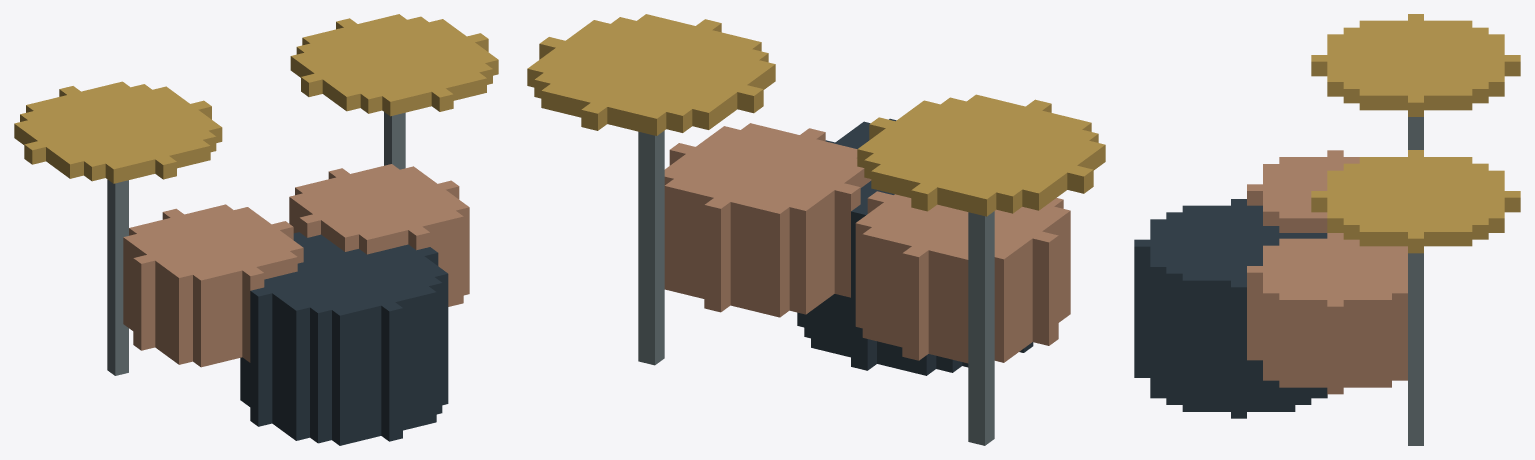
The model's file is music-03.glb.
3 views of the same model, side by side, from view 1: azimuth 30°, elevation 25°; view 2: azimuth 150°, elevation 25°; view 3: azimuth 270°, elevation 25° (orthographic). The views are drawn at different scales.
Parts seen in each view (by area): view 1: Drum kit; view 2: Drum kit; view 3: Drum kit.
Part boxes in pixels (x1,y1,x2,y2): Drum kit: (14, 14, 498, 445); Drum kit: (527, 14, 1105, 445); Drum kit: (1134, 14, 1520, 445).
Bounding box in the file's own units: 2.64 × 1.36 × 1.92.
